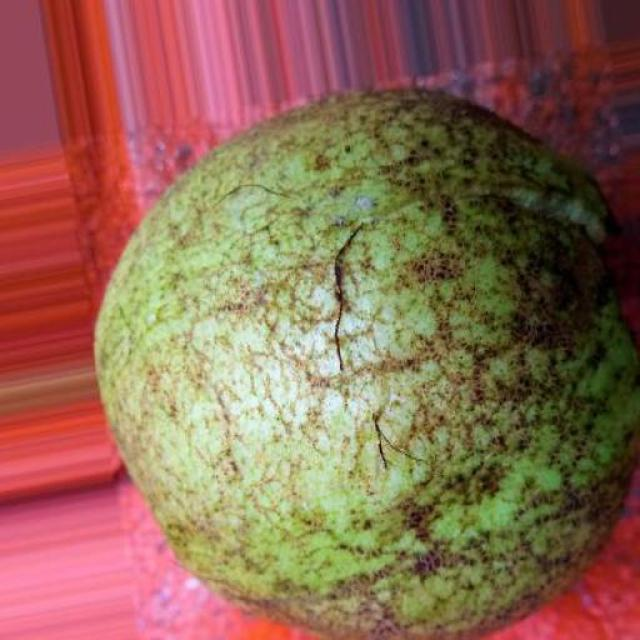Styler_Root: (96, 89, 640, 638)
